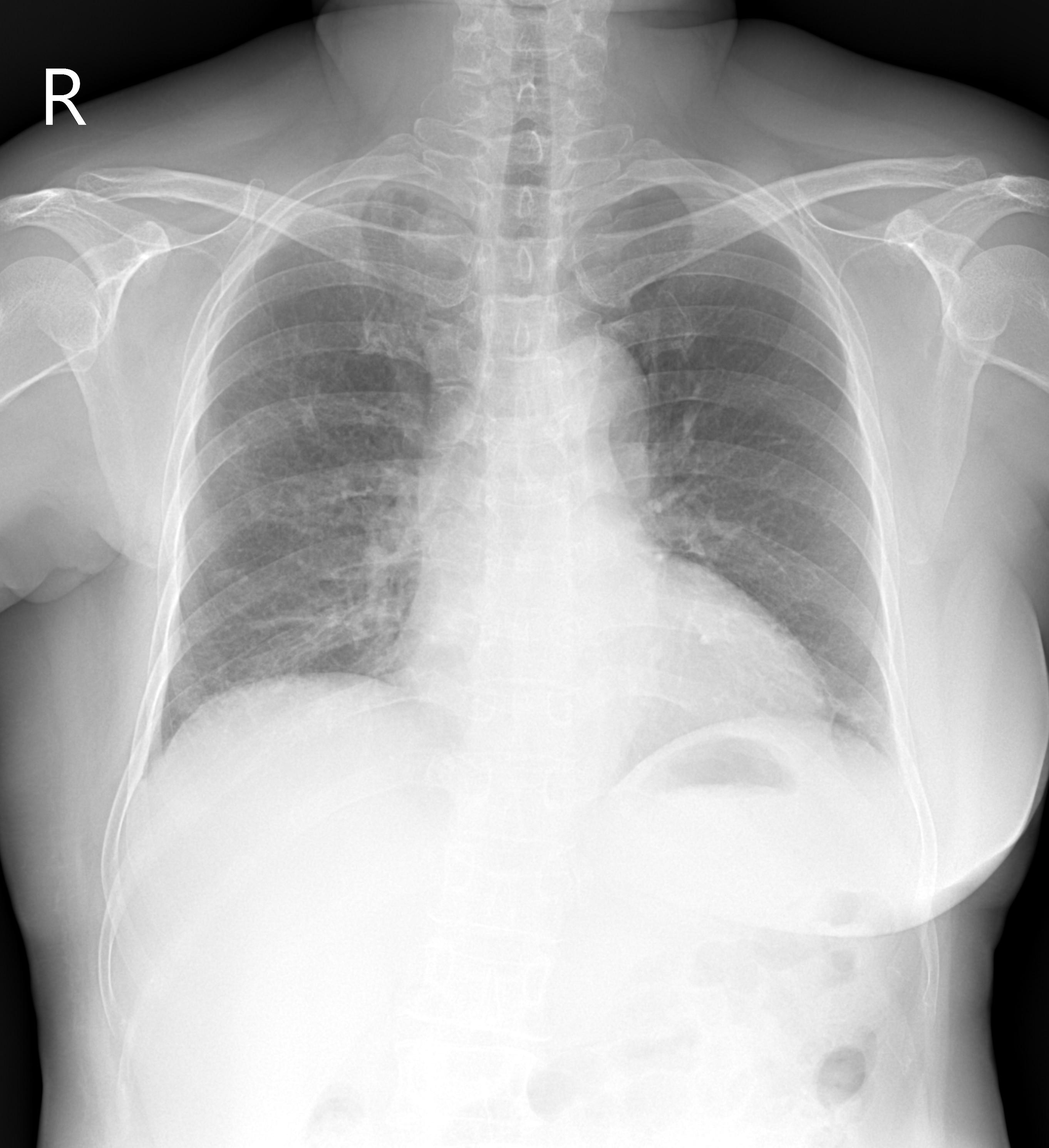Aortic enlargement: (538, 335, 652, 484)
Cardiomegaly: (380, 596, 831, 740)
